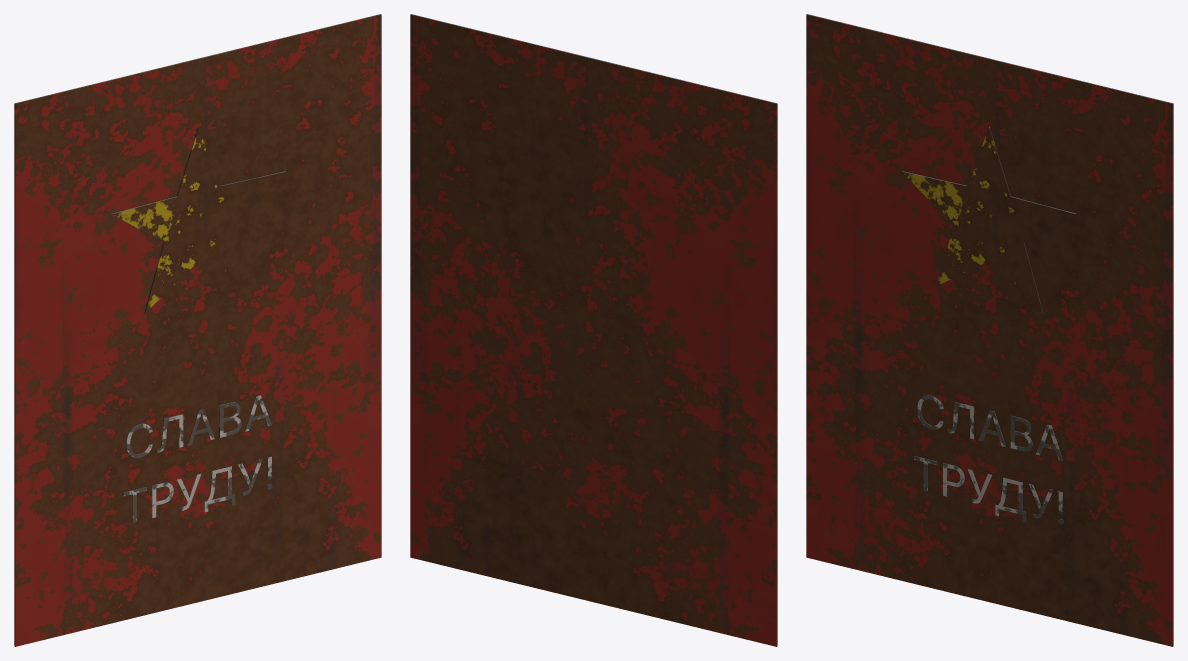
The model's file is SM_Poster_GloryToLabour.fbx.
3 views of the same model, side by side, from view 1: azimuth 30°, elevation 25°; view 2: azimuth 150°, elevation 25°; view 3: azimuth 330°, elevation 25° (orthographic).
Parts seen in each view (by area): view 1: SM_Poster_GloryToLabour; view 2: SM_Poster_GloryToLabour; view 3: SM_Poster_GloryToLabour.
Boxes of the visible parts, box(x1,y1,x2,y2) form: SM_Poster_GloryToLabour: box(14, 14, 381, 646); SM_Poster_GloryToLabour: box(410, 14, 777, 646); SM_Poster_GloryToLabour: box(806, 14, 1173, 646).
Size of the model in its own units: 0.6 by 0.85 by 0.004.
Materials: 1 (1 with a texture image).
